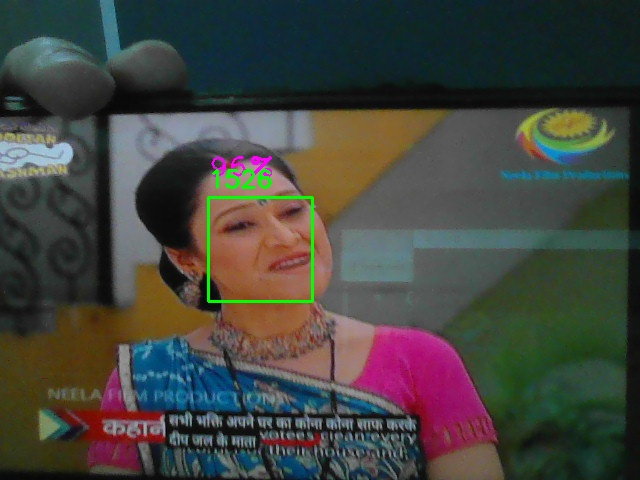fake: (208, 197, 313, 302)
